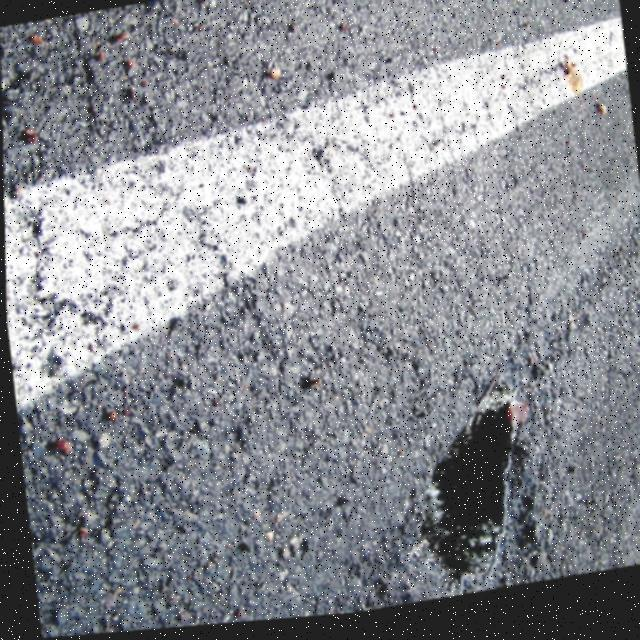pothole: (393, 385, 558, 609)
